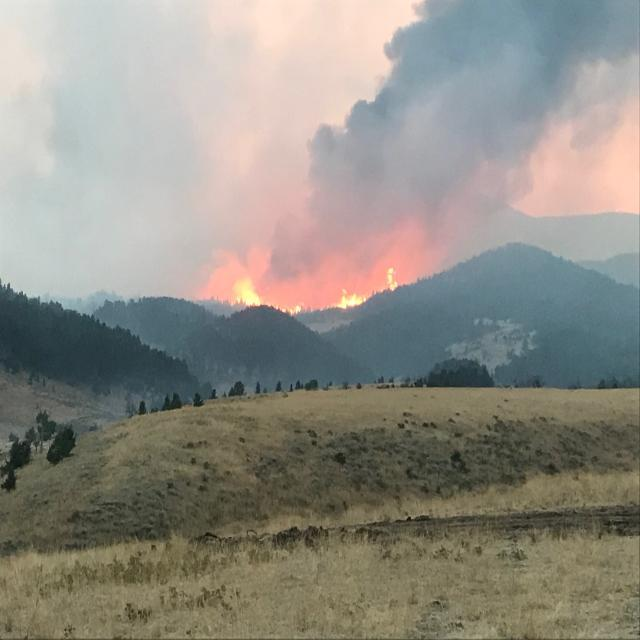Fire: (218, 269, 265, 309)
Smoke: (212, 0, 640, 296)
